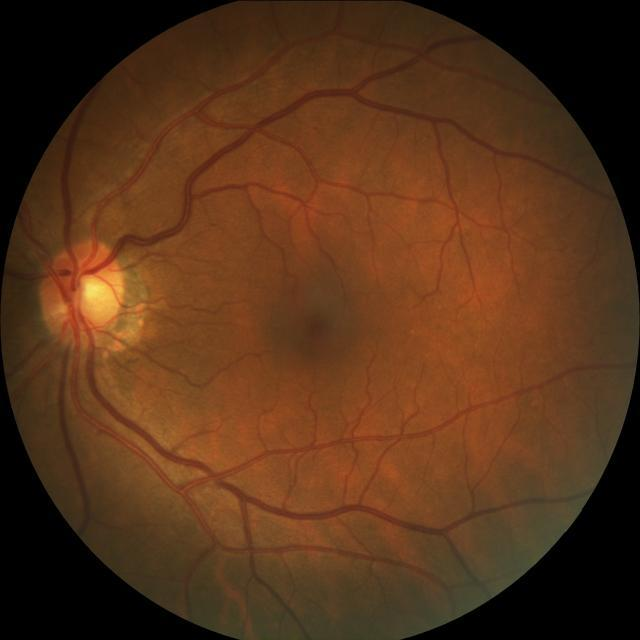OC: (76, 275, 106, 304)
OD: (39, 242, 125, 340)
